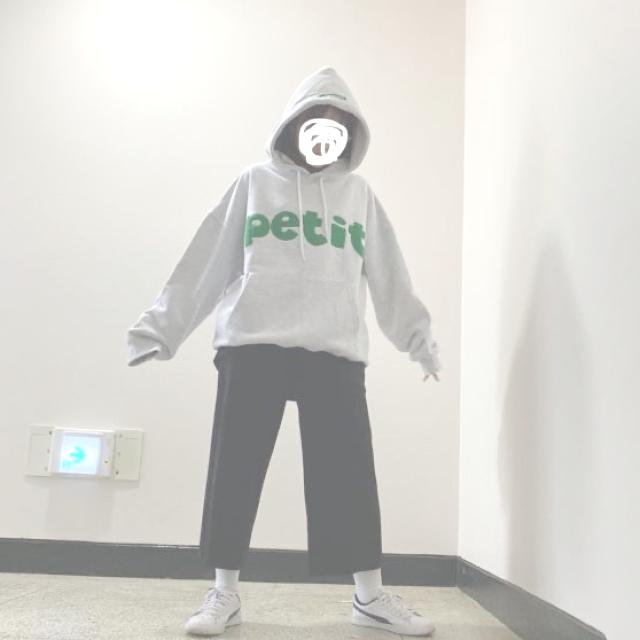hoodies: (130, 60, 446, 373)
slacks: (201, 345, 385, 575)
